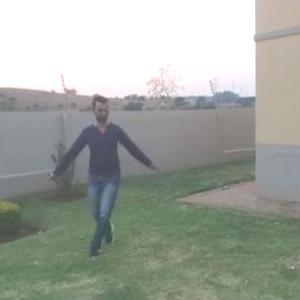land: (44, 88, 154, 264)
